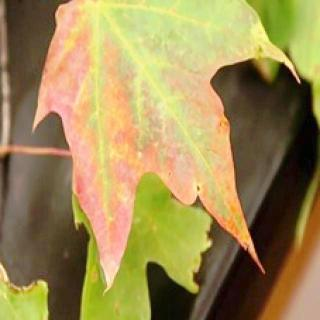wilt: (31, 4, 268, 286)
